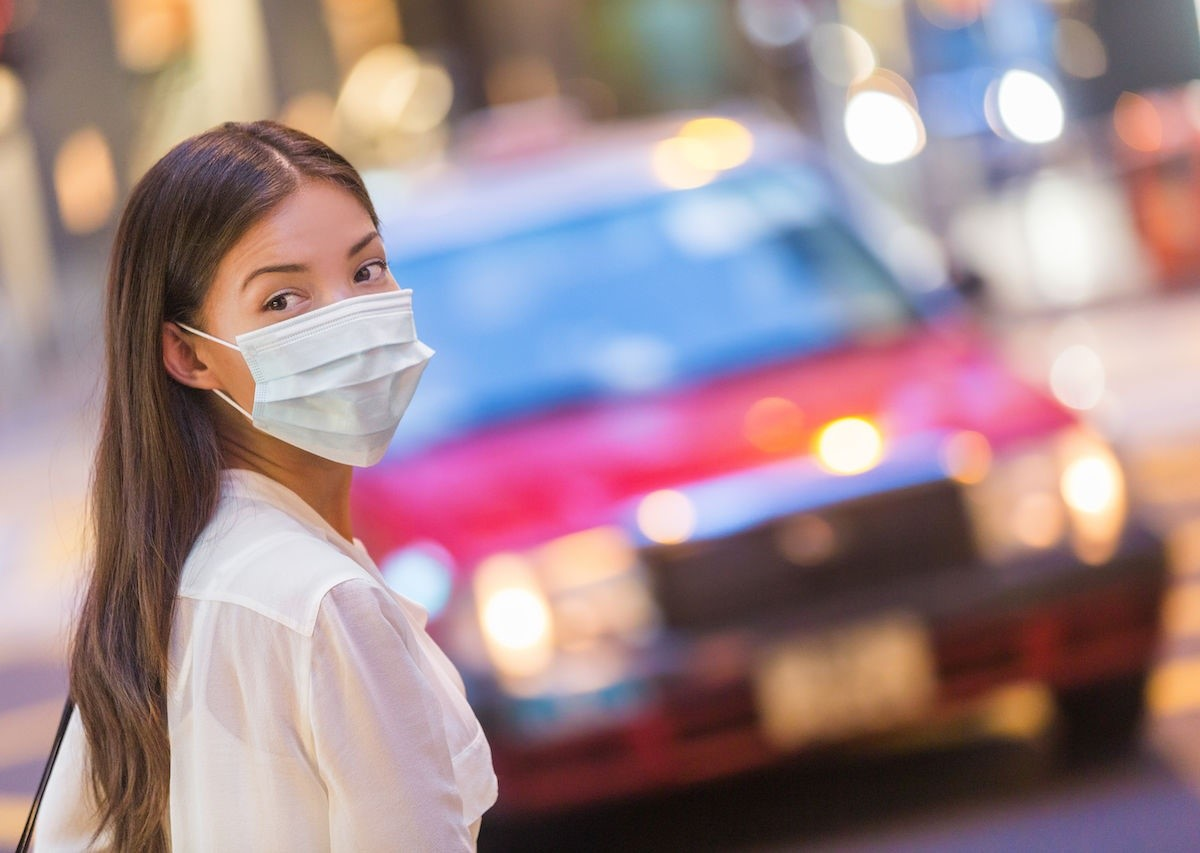face_with_mask: (150, 149, 447, 487)
